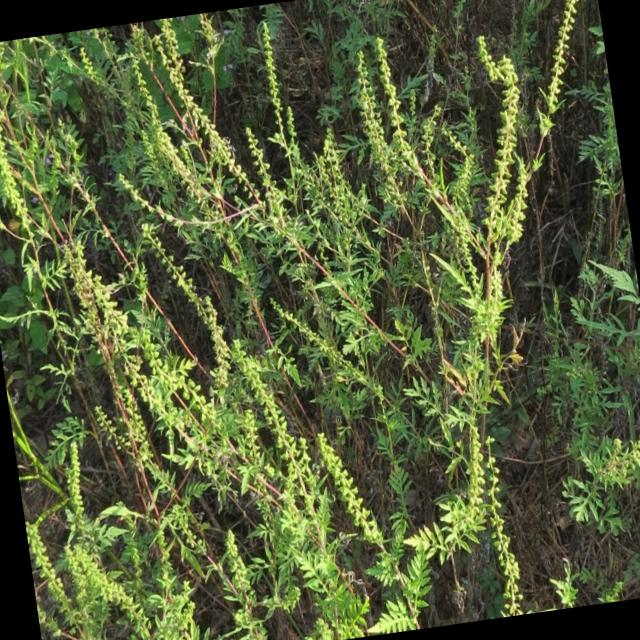ambrosia: (239, 277, 528, 640), (130, 9, 376, 310), (344, 0, 629, 259), (9, 360, 249, 640)
